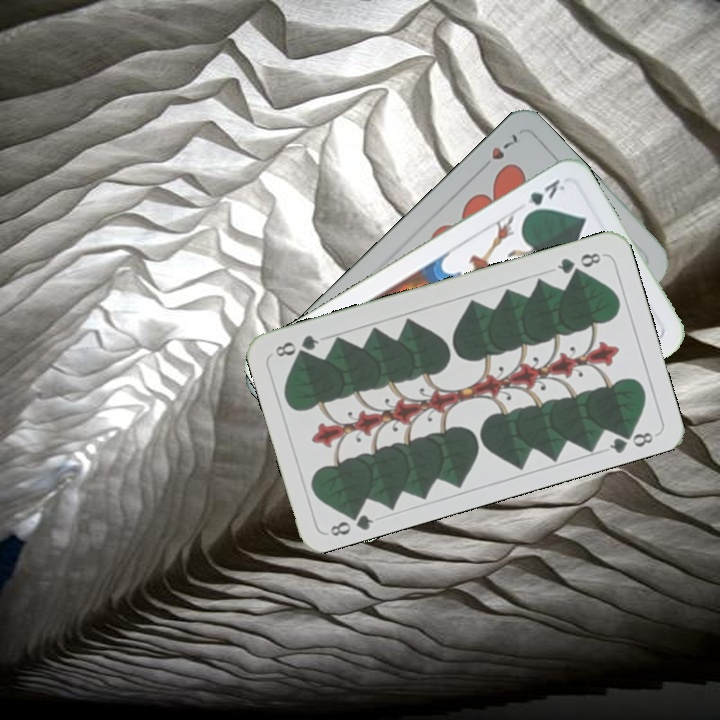G8: (326, 504, 376, 539), (553, 248, 604, 277)
GK: (519, 174, 568, 219)
H7: (487, 129, 523, 163)
